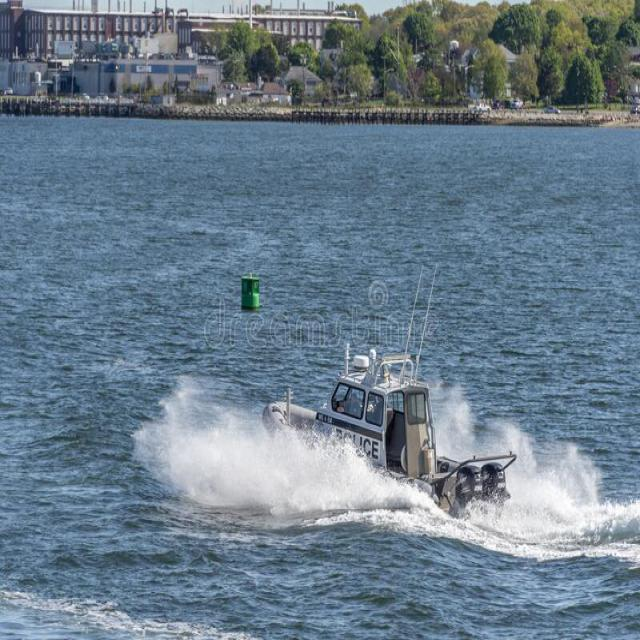ship: (258, 334, 524, 524)
